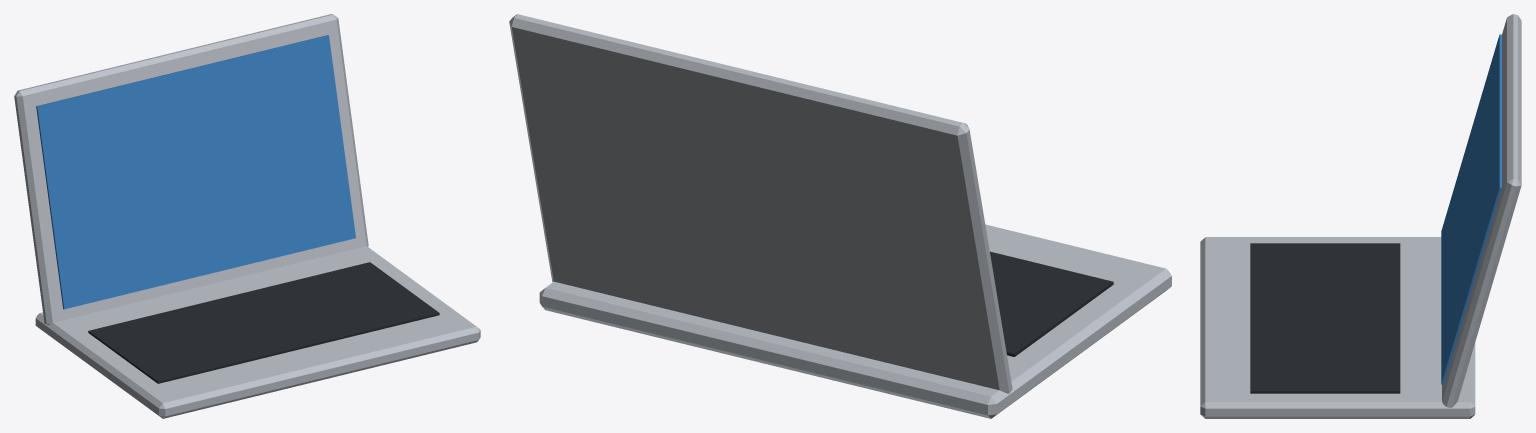
The model's file is PRP_Laptop.fbx.
3 views of the same model, side by side, from view 1: azimuth 30°, elevation 25°; view 2: azimuth 150°, elevation 25°; view 3: azimuth 270°, elevation 25° (orthographic). The views are drawn at different scales.
Visible parts, largest first — view 1: PRP_Laptop; view 2: PRP_Laptop; view 3: PRP_Laptop.
Boxes of the visible parts, box(x1,y1,x2,y2) form: PRP_Laptop: box(14, 14, 480, 418); PRP_Laptop: box(509, 14, 1171, 418); PRP_Laptop: box(1200, 14, 1521, 418).
Size of the model in its own units: 0.32 by 0.2119 by 0.2569.
